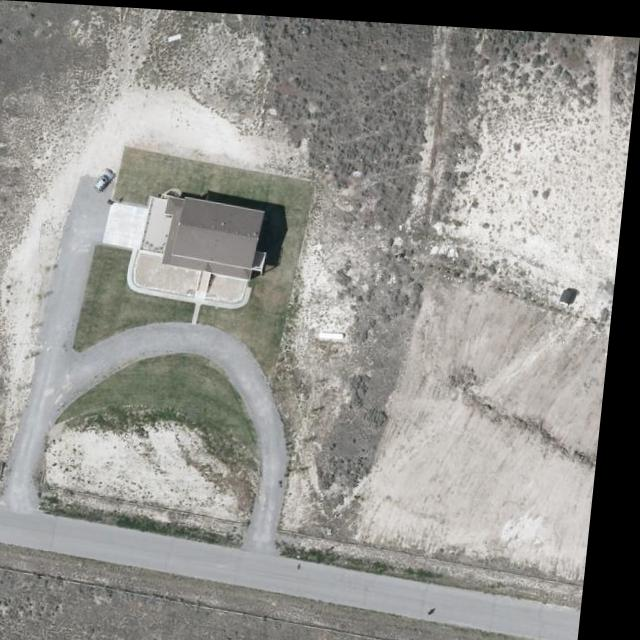vehicle: (96, 166, 119, 193)
